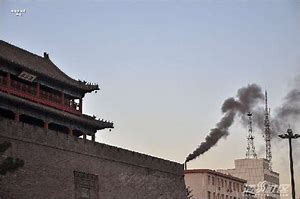smoke: (185, 83, 282, 161)
